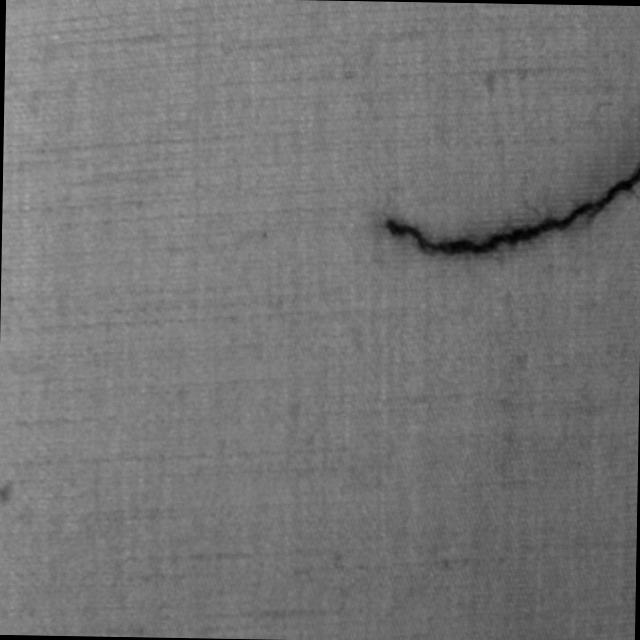objects: (379, 152, 640, 264)
